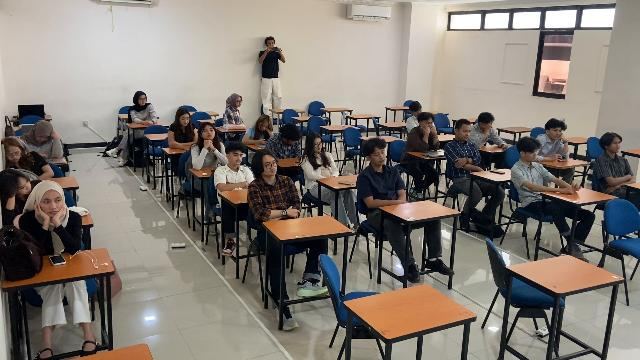bosan: (43, 194, 62, 216), (18, 178, 32, 195), (7, 146, 21, 163), (264, 158, 278, 175), (371, 150, 386, 165), (230, 150, 242, 165), (610, 137, 621, 153), (550, 127, 563, 140), (460, 126, 471, 141), (203, 126, 214, 139), (528, 147, 538, 161), (37, 134, 50, 144), (424, 120, 434, 130), (180, 115, 189, 126), (314, 139, 322, 151), (260, 121, 268, 132)
